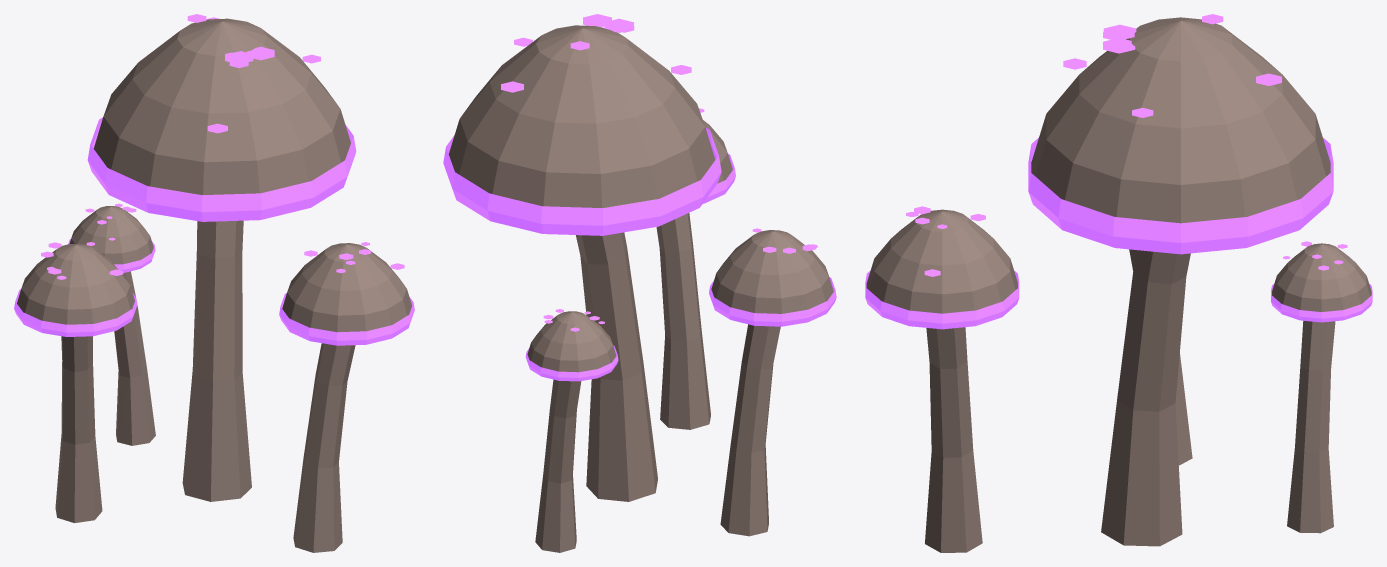
The model's file is cap_v02.glb.
The picture shows the model from 3 angles, left to right: view 1: azimuth 30°, elevation 25°; view 2: azimuth 150°, elevation 25°; view 3: azimuth 270°, elevation 25°; orthographic projection. The views are drawn at different scales.
Parts seen in each view (by area): view 1: mushroom_cap_flesh_nocol, mushroom_cap_glow_nocol; view 2: mushroom_cap_flesh_nocol, mushroom_cap_glow_nocol; view 3: mushroom_cap_flesh_nocol, mushroom_cap_glow_nocol.
Part boxes in pixels (x1=…): mushroom_cap_flesh_nocol: x1=17, y1=18, x2=411, y2=552; mushroom_cap_glow_nocol: x1=14, y1=14, x2=414, y2=345; mushroom_cap_flesh_nocol: x1=448, y1=25, x2=833, y2=552; mushroom_cap_glow_nocol: x1=443, y1=14, x2=836, y2=381; mushroom_cap_flesh_nocol: x1=866, y1=17, x2=1371, y2=552; mushroom_cap_glow_nocol: x1=865, y1=14, x2=1372, y2=329.
Bounding box in the file's own units: 1.83 × 2.35 × 2.07.
